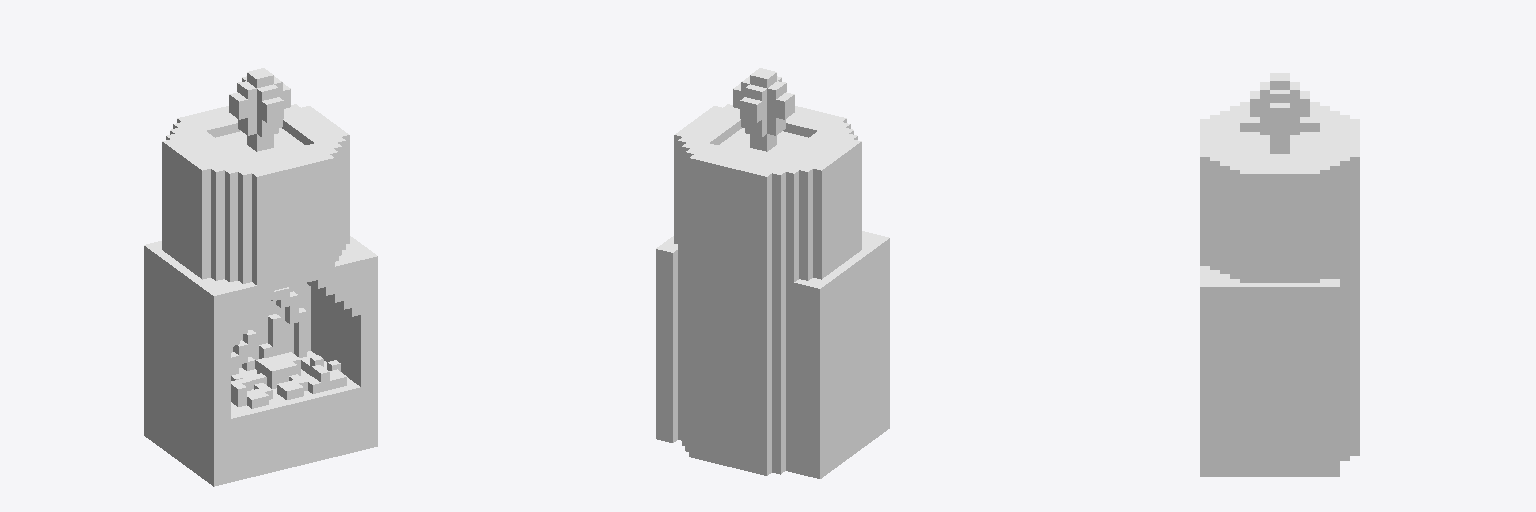
The model's file is Furnace.obj.
The picture shows the model from 3 angles: view 1: azimuth 30°, elevation 25°; view 2: azimuth 150°, elevation 25°; view 3: azimuth 270°, elevation 25°; orthographic projection.
Parts seen in each view (by area): view 1: object 1; view 2: object 1; view 3: object 1.
Boxes of the visible parts, x1=… form: object 1: x1=144, y1=68, x2=377, y2=486; object 1: x1=656, y1=68, x2=889, y2=478; object 1: x1=1200, y1=73, x2=1359, y2=476.
Bounding box in the file's own units: 1.9 × 4 × 1.6.